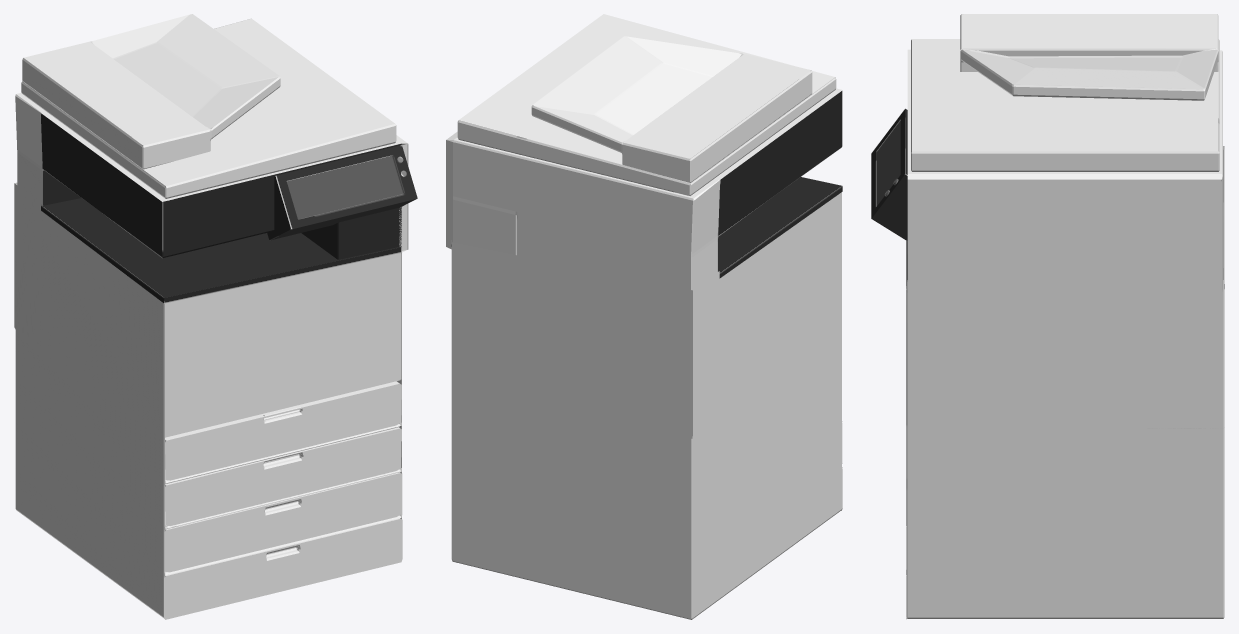
3 views of the same model, side by side, from view 1: azimuth 30°, elevation 25°; view 2: azimuth 150°, elevation 25°; view 3: azimuth 270°, elevation 25° (orthographic). The views are drawn at different scales.
Visible parts, largest first — view 1: 立方体; view 2: 立方体; view 3: 立方体.
Boxes of the visible parts, box(x1,y1,x2,y2) form: 立方体: box(14, 14, 417, 619); 立方体: box(446, 14, 842, 619); 立方体: box(871, 14, 1224, 619).
Bounding box in the file's own units: 61.9 × 112 × 72.12.
